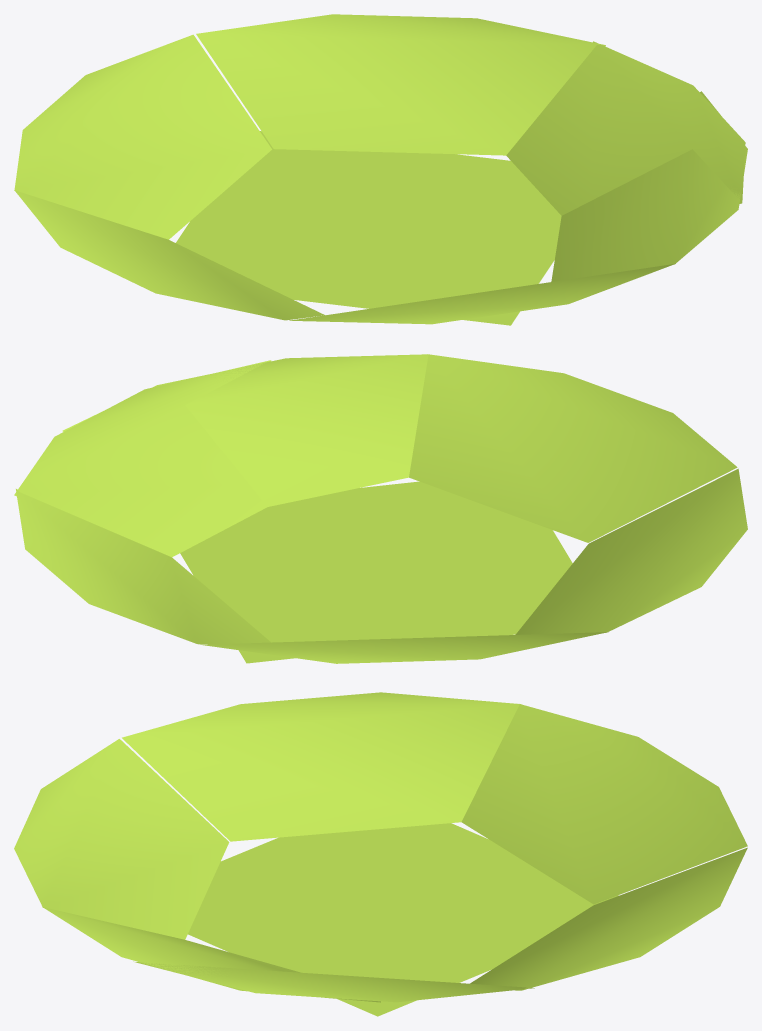
File: plate_convex.fbx
3 views of the same model, one above another, from view 1: azimuth 30°, elevation 25°; view 2: azimuth 150°, elevation 25°; view 3: azimuth 270°, elevation 25° (orthographic).
Visible parts, largest first — view 1: plate_convex.006, plate_convex.004, plate_convex.003, plate_convex.005, plate_convex, plate_convex.002, plate_convex.001; view 2: plate_convex.006, plate_convex.001, plate_convex, plate_convex.005, plate_convex.002, plate_convex.004, plate_convex.003; view 3: plate_convex.006, plate_convex.002, plate_convex.003, plate_convex.001, plate_convex.004, plate_convex.005, plate_convex.
Boxes of the visible parts, x1,y1,x2,y2 form: plate_convex.006: [176, 131, 561, 325]; plate_convex.004: [196, 14, 605, 155]; plate_convex.003: [14, 34, 271, 239]; plate_convex.005: [506, 41, 745, 215]; plate_convex: [551, 91, 747, 281]; plate_convex.002: [14, 190, 324, 320]; plate_convex.001: [289, 264, 674, 324]; plate_convex.006: [180, 481, 572, 663]; plate_convex.001: [409, 354, 737, 542]; plate_convex: [62, 354, 428, 506]; plate_convex.005: [14, 360, 271, 557]; plate_convex.002: [515, 468, 747, 634]; plate_convex.004: [16, 489, 270, 644]; plate_convex.003: [200, 632, 608, 663]; plate_convex.006: [188, 823, 618, 1016]; plate_convex.002: [122, 692, 520, 841]; plate_convex.003: [461, 704, 747, 904]; plate_convex.001: [14, 739, 229, 939]; plate_convex.004: [470, 847, 747, 990]; plate_convex.005: [133, 961, 534, 1002]; plate_convex: [42, 907, 380, 1002].
Size of the model in its own units: 7.62 by 7.62 by 0.6634.
